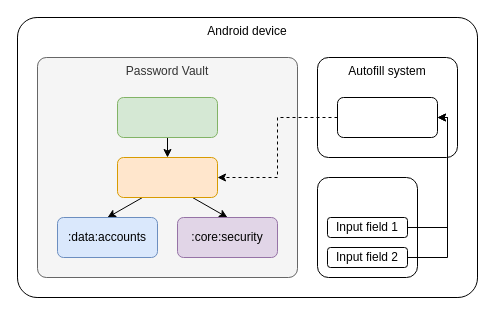
Image size: 495x315. Some labels were removed from this diagram. The shapes that lost their labels are listed below. From the top down, each one's box as (x1, y1, x2, y2) in pixels, then its label:
(116, 96, 218, 138): :app
(336, 96, 438, 138): AutofillManager
(116, 156, 218, 198): :feature:autofill
(316, 176, 418, 278): Other app
